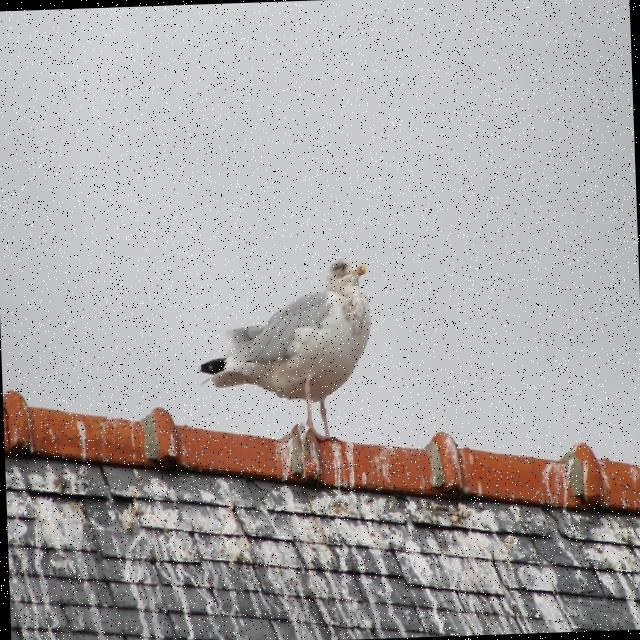bird: (193, 257, 376, 446)
